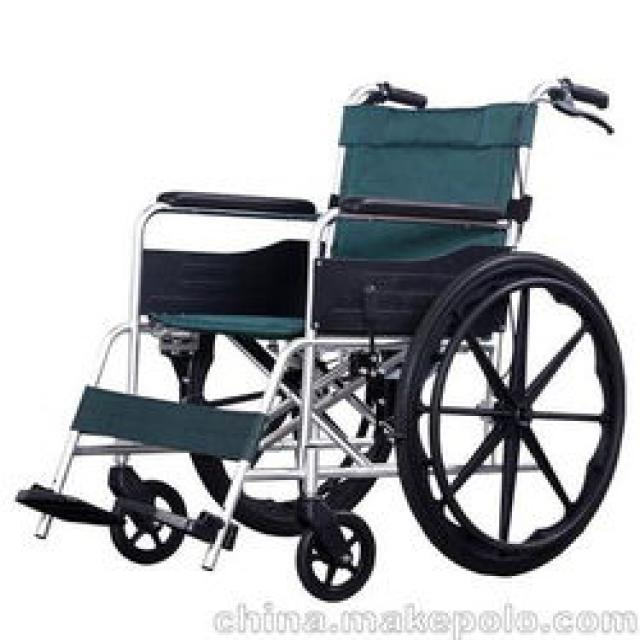wheelchair: (15, 64, 630, 598)
